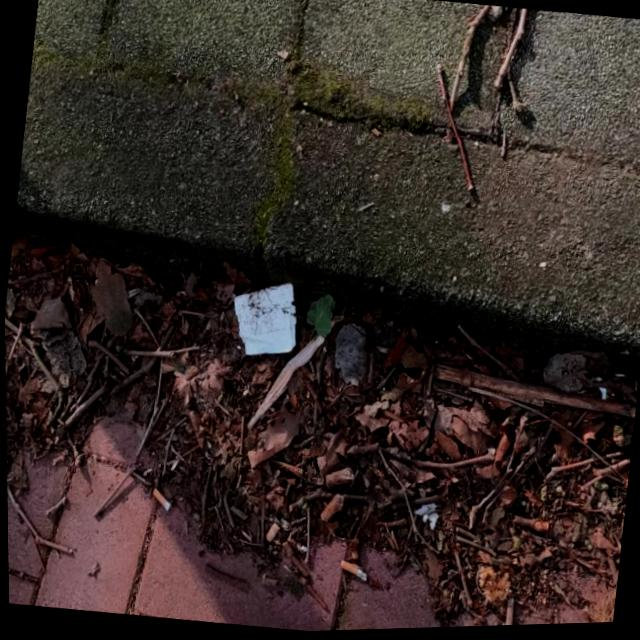Paper: (223, 274, 302, 362), (327, 320, 372, 389)
